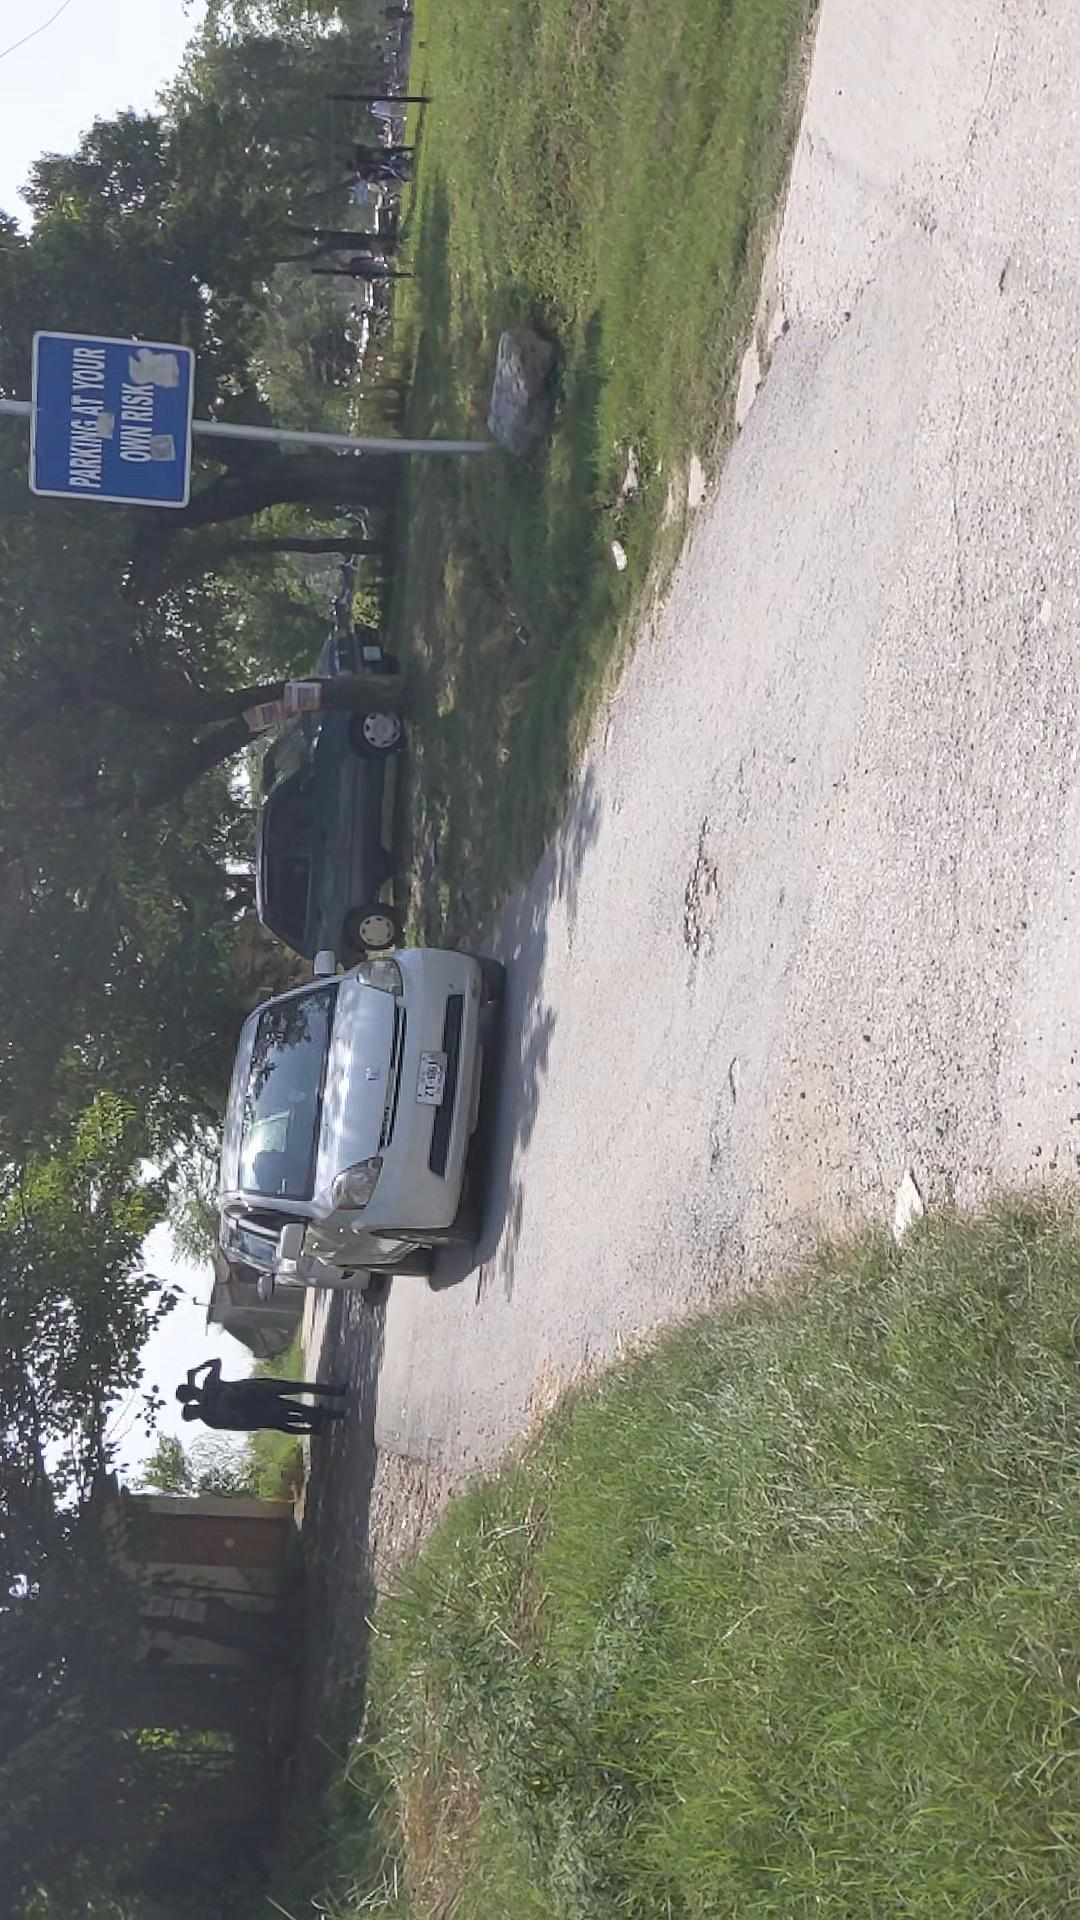windshield: (398, 427, 531, 611)
